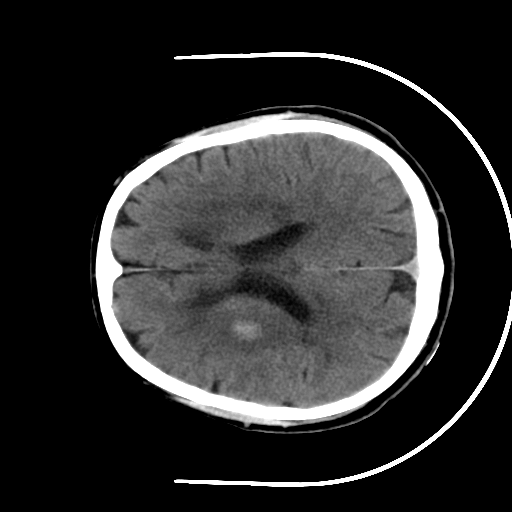a: (211, 302, 282, 358)
